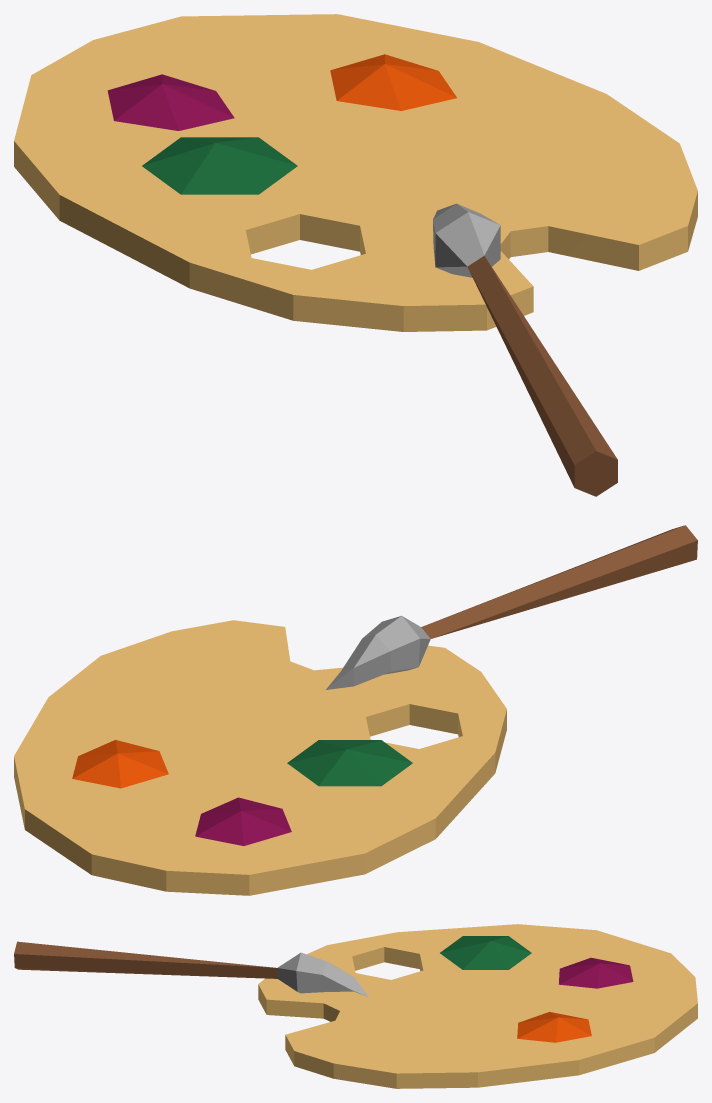
File: pallet1.fbx
3 renders of one model, top to bottom at view 1: azimuth 30°, elevation 25°; view 2: azimuth 150°, elevation 25°; view 3: azimuth 270°, elevation 25°, orthographic. The views are drawn at different scales.
Visible parts, largest first — view 1: pallet1; view 2: pallet1; view 3: pallet1.
Part boxes in pixels (bbox=[...]): pallet1: bbox=[14, 14, 697, 496]; pallet1: bbox=[14, 525, 697, 895]; pallet1: bbox=[14, 924, 697, 1088].
Bounding box in the file's own units: 56.61 × 9.18 × 110.
